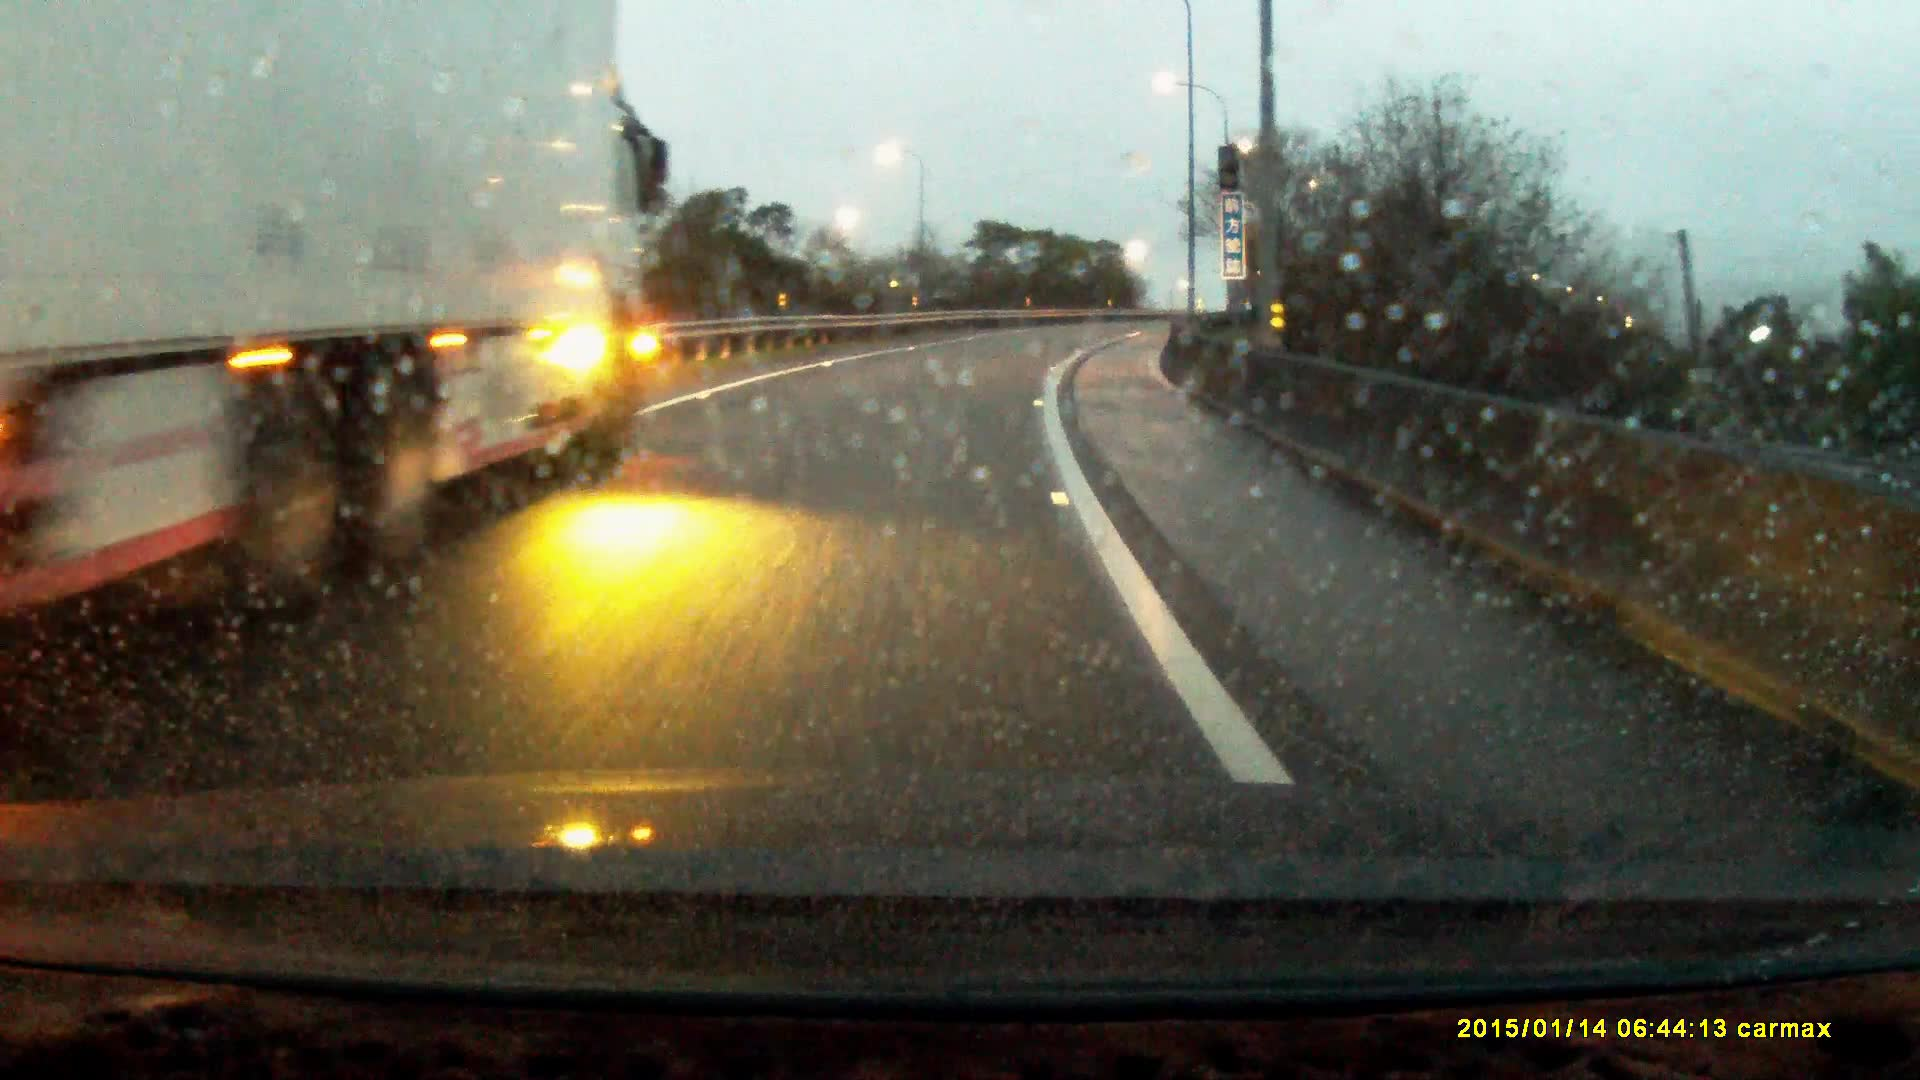vehicle: (1, 1, 666, 624)
